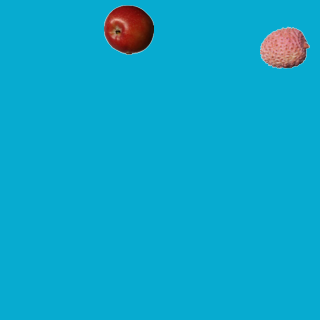Apple Braeburn: (103, 4, 153, 54)
Lychee: (259, 22, 309, 72)
